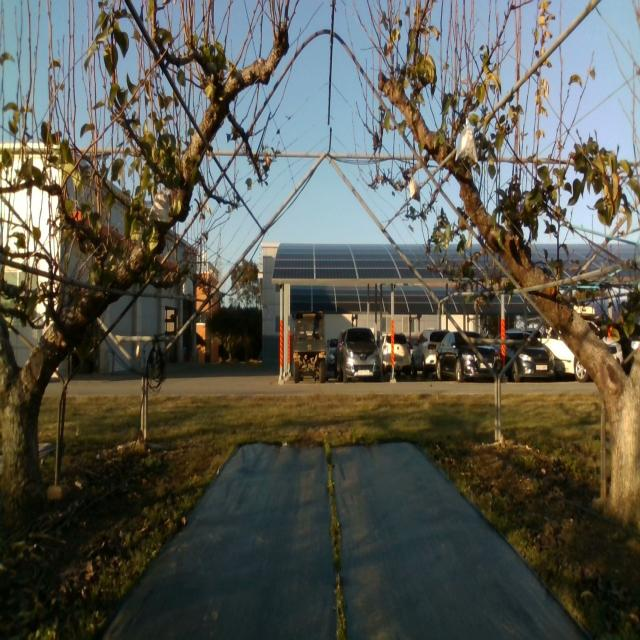pearbags: (455, 116, 478, 162), (149, 189, 170, 223), (410, 172, 420, 202), (182, 276, 194, 296)
